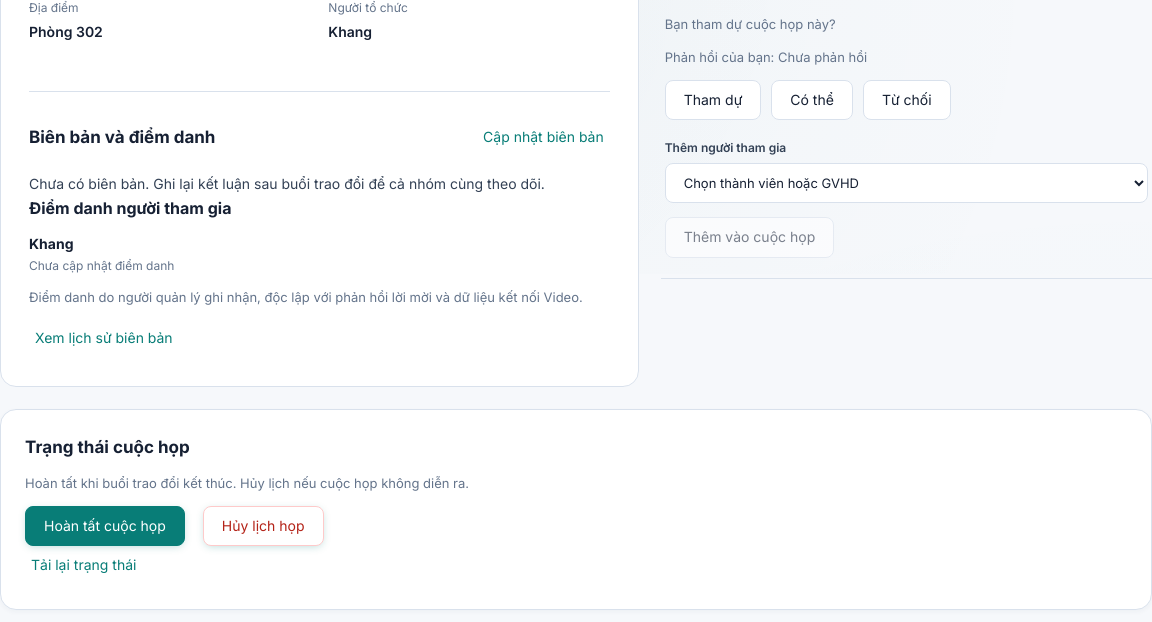
Test: Meeting RSVP and notes lock (BE-06/N07) › expands the notes history panel and fetches the first page
(page scrolled)
Click the button "Xem lịch sử biên bản" at point(104, 339), box [29,320,179,358]
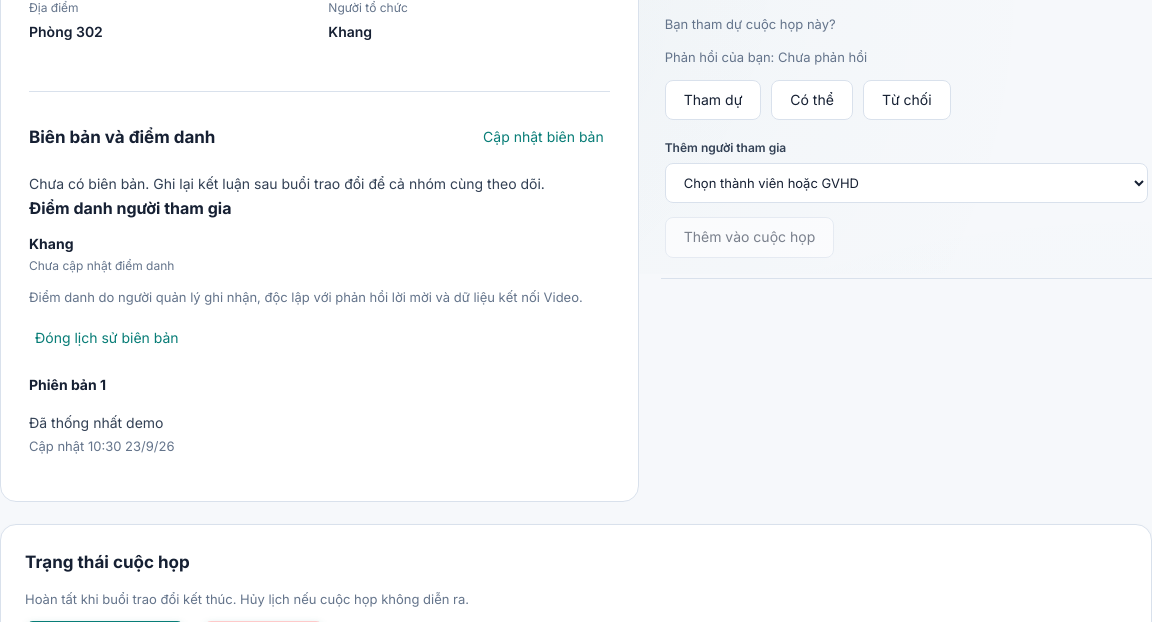
Now the text "Đã thống nhất demo" is shown, box [29,414,164,431]
